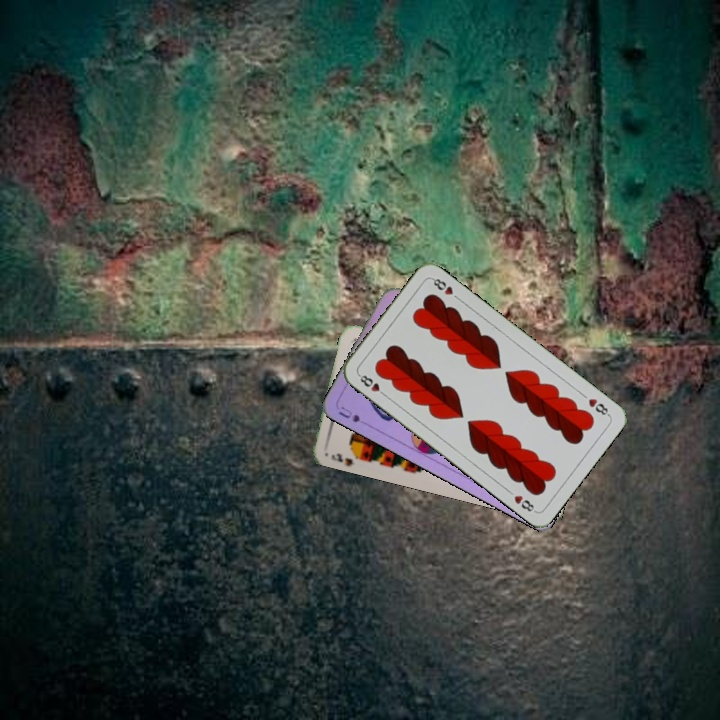H8: (354, 370, 389, 399), (584, 394, 612, 419)
S9: (327, 448, 365, 468)
SU: (334, 402, 373, 428)
